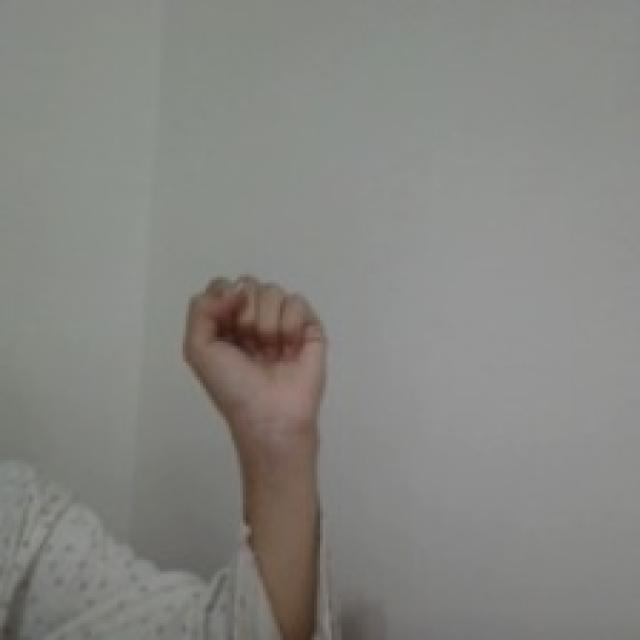yes: (176, 266, 334, 429)
